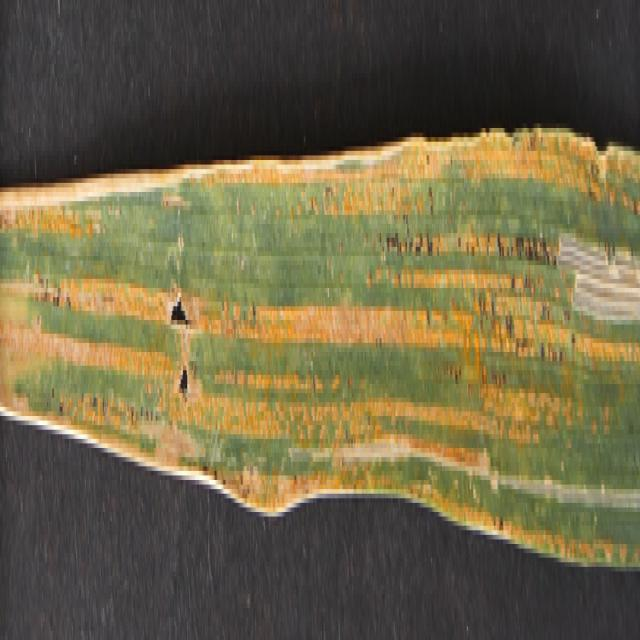leaf rust: (192, 110, 640, 562), (1, 192, 169, 475)
